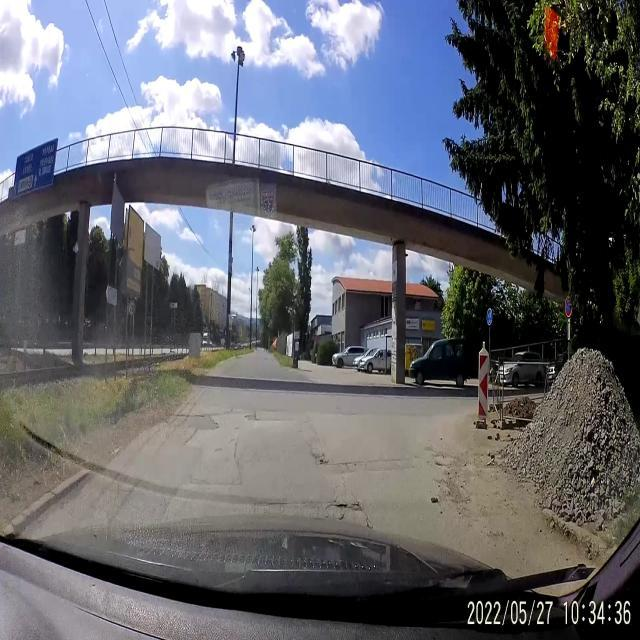Pothole: (328, 496, 363, 526), (170, 407, 216, 419), (311, 446, 332, 472), (184, 424, 200, 446), (242, 406, 260, 425), (212, 419, 224, 436)
